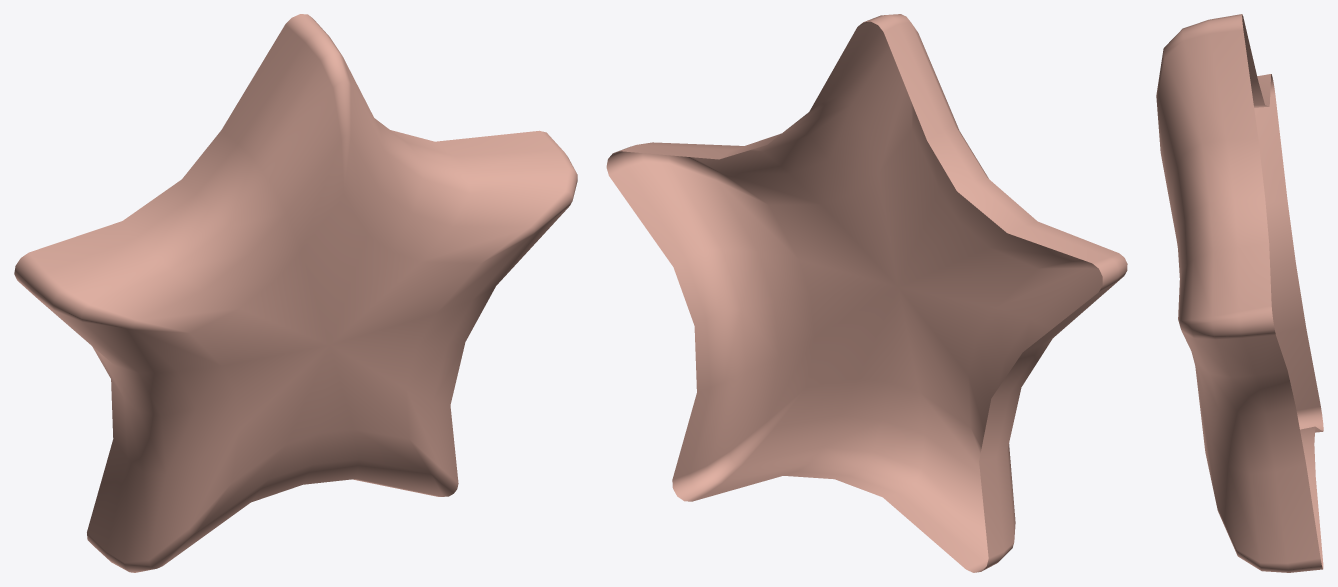
3 renders of one model, left to right at view 1: azimuth 30°, elevation 25°; view 2: azimuth 150°, elevation 25°; view 3: azimuth 270°, elevation 25°, orthographic. The views are drawn at different scales.
Parts seen in each view (by area): view 1: pCylinder5; view 2: pCylinder5; view 3: pCylinder5.
Part boxes in pixels (x1,y1,x2,y2): pCylinder5: [14, 14, 577, 572]; pCylinder5: [606, 14, 1127, 572]; pCylinder5: [1156, 14, 1323, 572].
Size of the model in its own units: 0.0705 by 0.0666 by 0.0207.
